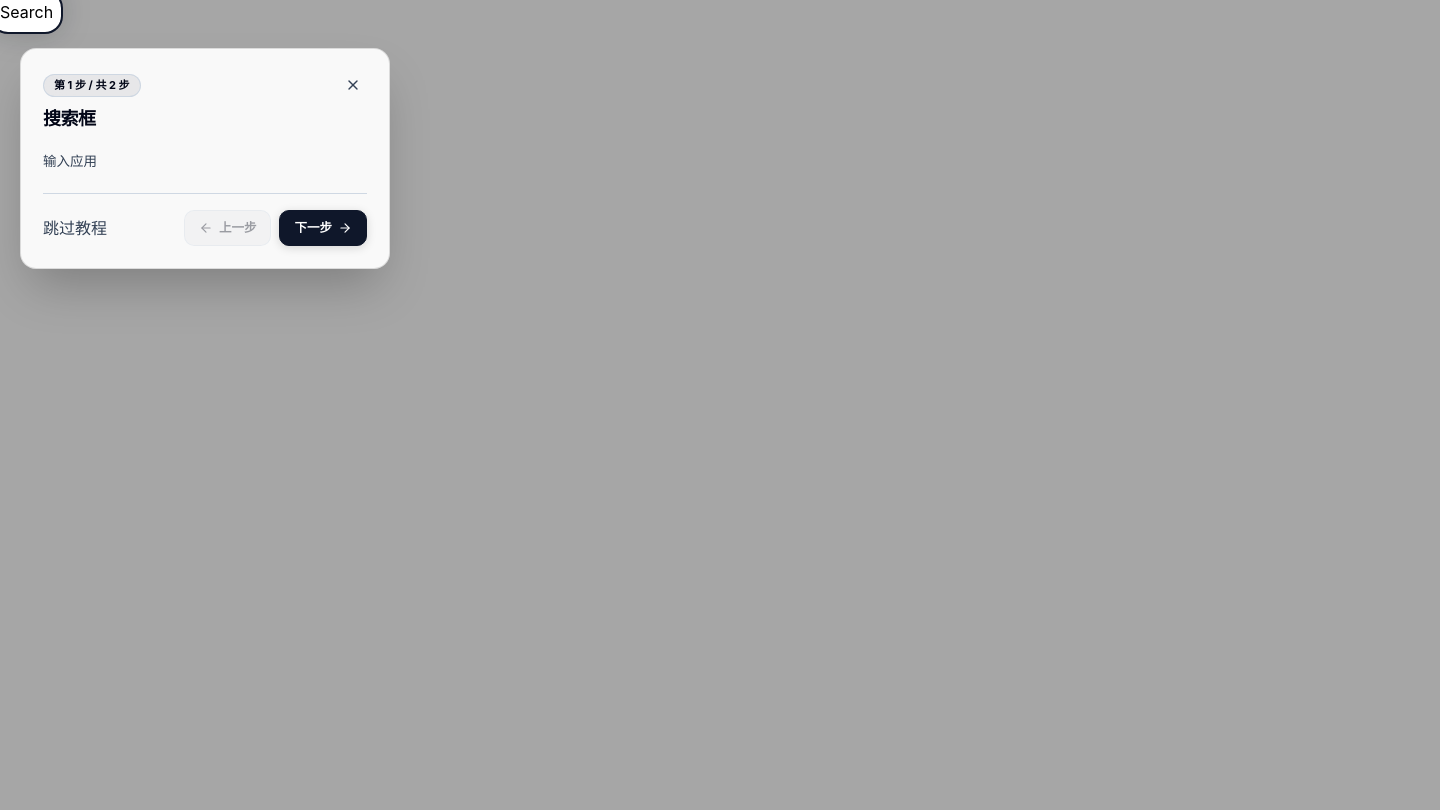
Test: GuidedTour › requires an explicit next confirmation and supports previous
The image size is (1440, 810).
Check: the text "第 1 步 / 共 2 步" is shown, box [43,74,141,96]
Check: the text "结果" is not shown
What coordinates should you click on to do the following:
click the button "下一步"
I would click on:
 (323, 228)
Its box is [280,210,367,246].
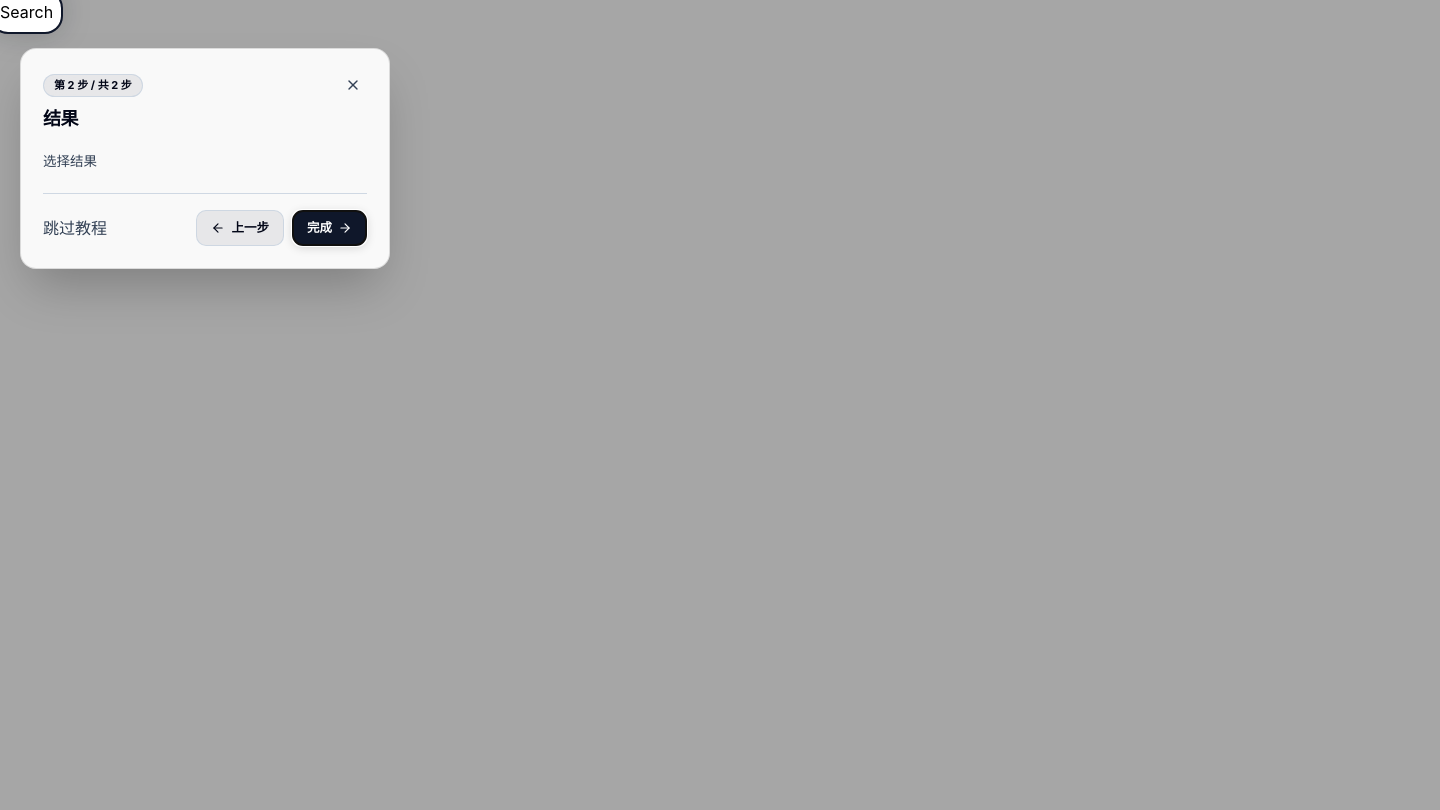
Check: the text "第 2 步 / 共 2 步" is shown, box [43,74,143,96]
What coordinates should you click on to do the following:
click the button "上一步"
I would click on:
 (240, 228)
Its box is [196,210,284,246].
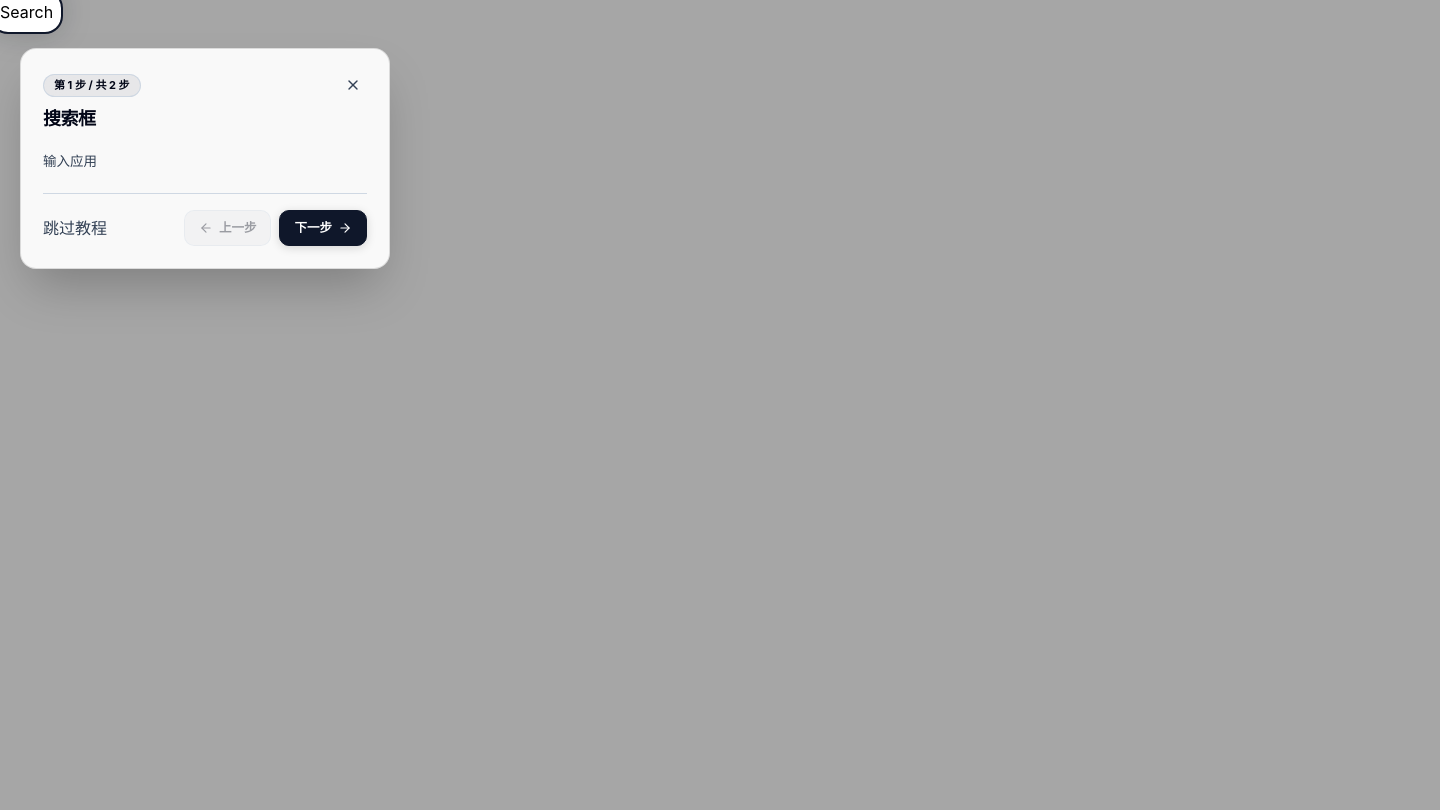
Check: the text "第 1 步 / 共 2 步" is shown, box [43,74,141,96]
